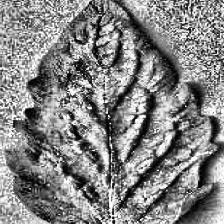spider mites: (6, 0, 216, 224)
